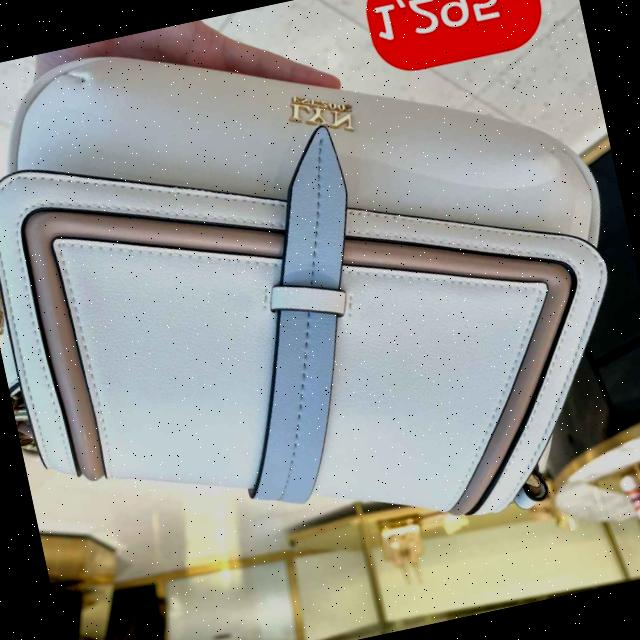Handbag: (0, 0, 635, 607)
